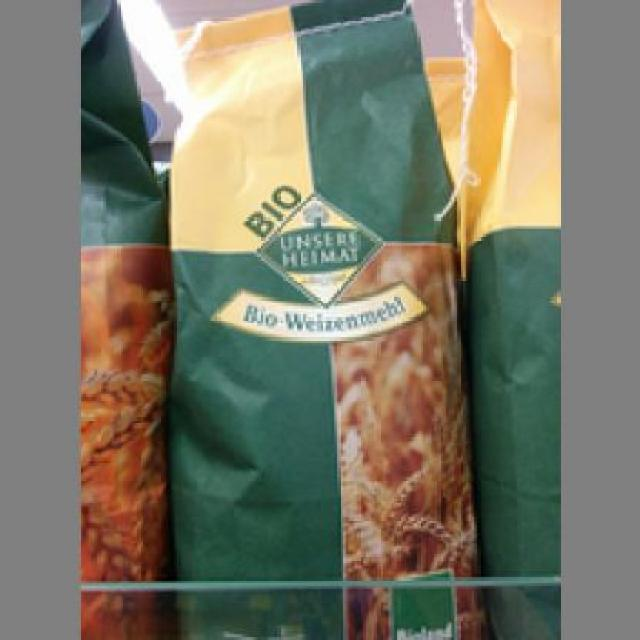Flour: (163, 0, 480, 637)
